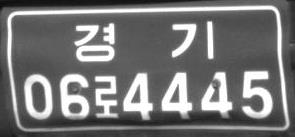0: (22, 72, 54, 121)
4: (160, 70, 193, 119), (200, 70, 233, 119), (122, 71, 154, 121)
5: (240, 69, 273, 120)
6: (58, 72, 90, 121)
경기_D: (73, 19, 215, 62)
로: (93, 74, 119, 119)
